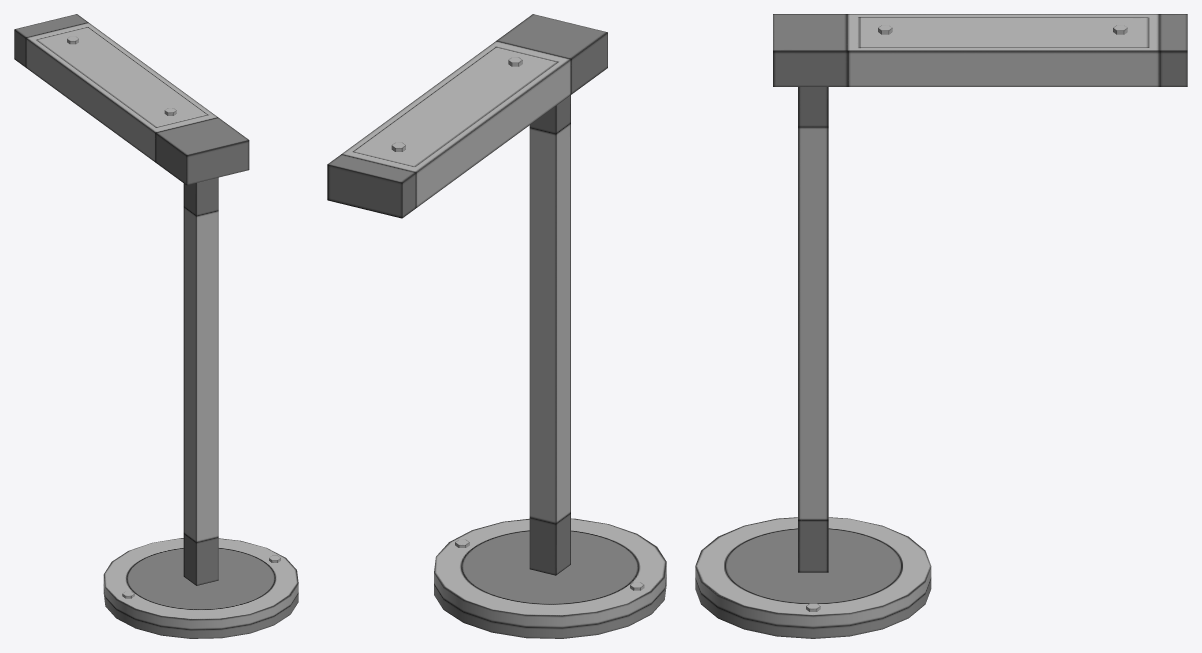
File: tableLamp.fbx
The picture shows the model from 3 angles, left to right: view 1: azimuth 30°, elevation 25°; view 2: azimuth 150°, elevation 25°; view 3: azimuth 270°, elevation 25°; orthographic projection. The views are drawn at different scales.
Parts seen in each view (by area): view 1: polySurface1096; view 2: polySurface1096; view 3: polySurface1096.
Boxes of the visible parts, x1,y1,x2,y2 form: polySurface1096: (14,14,298,638); polySurface1096: (327,14,666,638); polySurface1096: (695,14,1187,638).
Bounding box in the file's own units: 0.2038 × 0.5344 × 0.4252.
